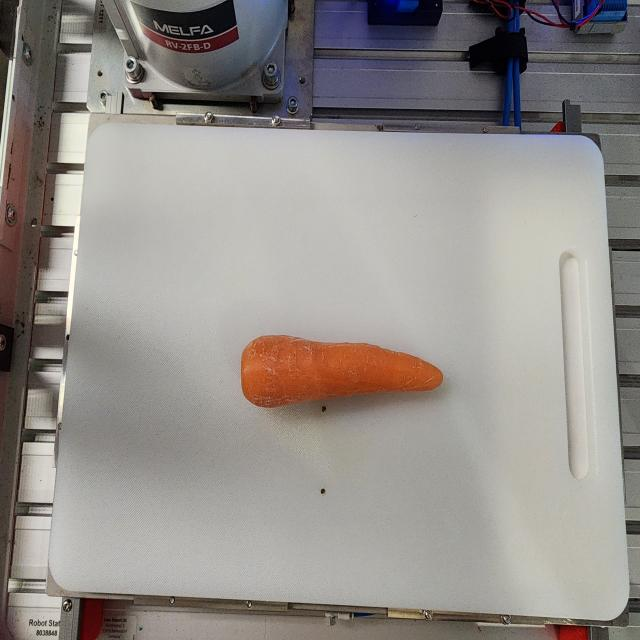carrot: (240, 334, 444, 408)
